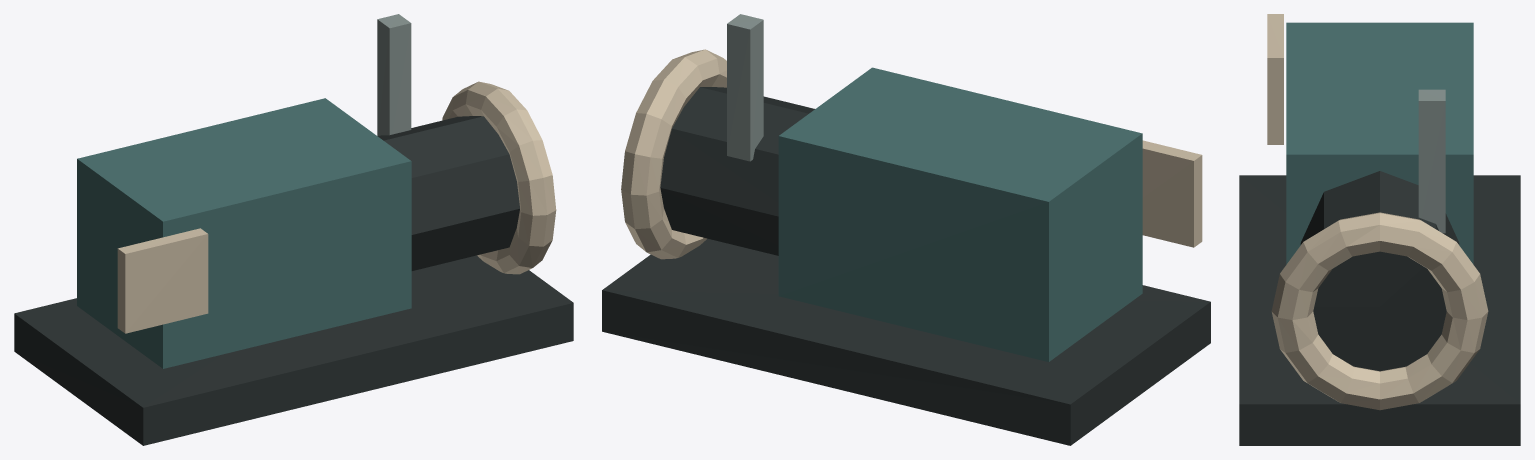
Rendered from generator.source.glb.
3 renders of one model, left to right at view 1: azimuth 30°, elevation 25°; view 2: azimuth 150°, elevation 25°; view 3: azimuth 270°, elevation 25°, orthographic. The views are drawn at different scales.
Visible parts, largest first — view 1: generator-generator-housing-mesh, generator-skid-base-mesh, generator-cylindrical-engine-mesh, generator-visible-flywheel-mesh, generator-control-panel-mesh, generator-exhaust-stack-mesh; view 2: generator-generator-housing-mesh, generator-skid-base-mesh, generator-cylindrical-engine-mesh, generator-visible-flywheel-mesh, generator-control-panel-mesh, generator-exhaust-stack-mesh; view 3: generator-skid-base-mesh, generator-generator-housing-mesh, generator-visible-flywheel-mesh, generator-cylindrical-engine-mesh, generator-exhaust-stack-mesh, generator-control-panel-mesh.
Part boxes in pixels (x1=…): generator-generator-housing-mesh: x1=77, y1=98, x2=411, y2=368; generator-skid-base-mesh: x1=14, y1=255, x2=573, y2=445; generator-cylindrical-engine-mesh: x1=378, y1=116, x2=519, y2=270; generator-visible-flywheel-mesh: x1=442, y1=81, x2=556, y2=274; generator-control-panel-mesh: x1=117, y1=228, x2=208, y2=333; generator-exhaust-stack-mesh: x1=377, y1=14, x2=411, y2=136; generator-generator-housing-mesh: x1=778, y1=67, x2=1142, y2=361; generator-skid-base-mesh: x1=602, y1=238, x2=1210, y2=445; generator-cylindrical-engine-mesh: x1=660, y1=87, x2=814, y2=255; generator-visible-flywheel-mesh: x1=621, y1=49, x2=726, y2=259; generator-control-panel-mesh: x1=1142, y1=140, x2=1202, y2=247; generator-exhaust-stack-mesh: x1=727, y1=14, x2=763, y2=161; generator-skid-base-mesh: x1=1239, y1=175, x2=1520, y2=445; generator-generator-housing-mesh: x1=1286, y1=22, x2=1473, y2=264; generator-visible-flywheel-mesh: x1=1271, y1=212, x2=1488, y2=410; generator-cylindrical-engine-mesh: x1=1300, y1=171, x2=1459, y2=371; generator-exhaust-stack-mesh: x1=1418, y1=89, x2=1445, y2=233; generator-control-panel-mesh: x1=1267, y1=14, x2=1283, y2=144.
Bounding box in the file's own units: 2.66 × 1.6 × 1.35.
